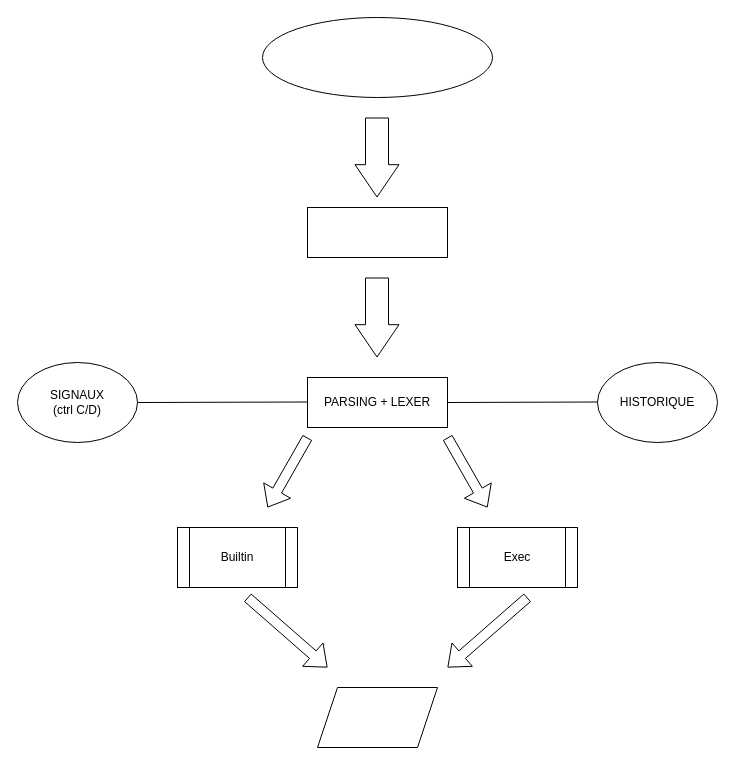
The diagram is 735 pixels wide and 765 high, and some of its shapes have lost their labels. The centre of each missing label's shape, as x and y in pixels:
"INIT VAR + ENV" goes at pixel 377 232.
"MAIN" goes at pixel 377 57.
"Valeur de sortie" goes at pixel 377 717.
